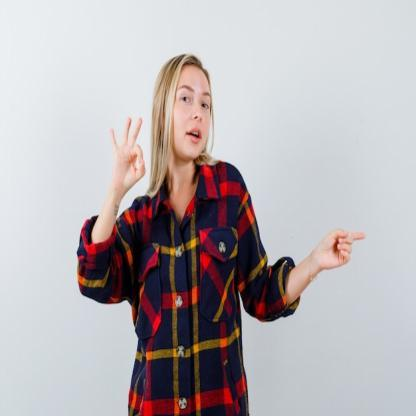ok: (108, 110, 148, 192)
